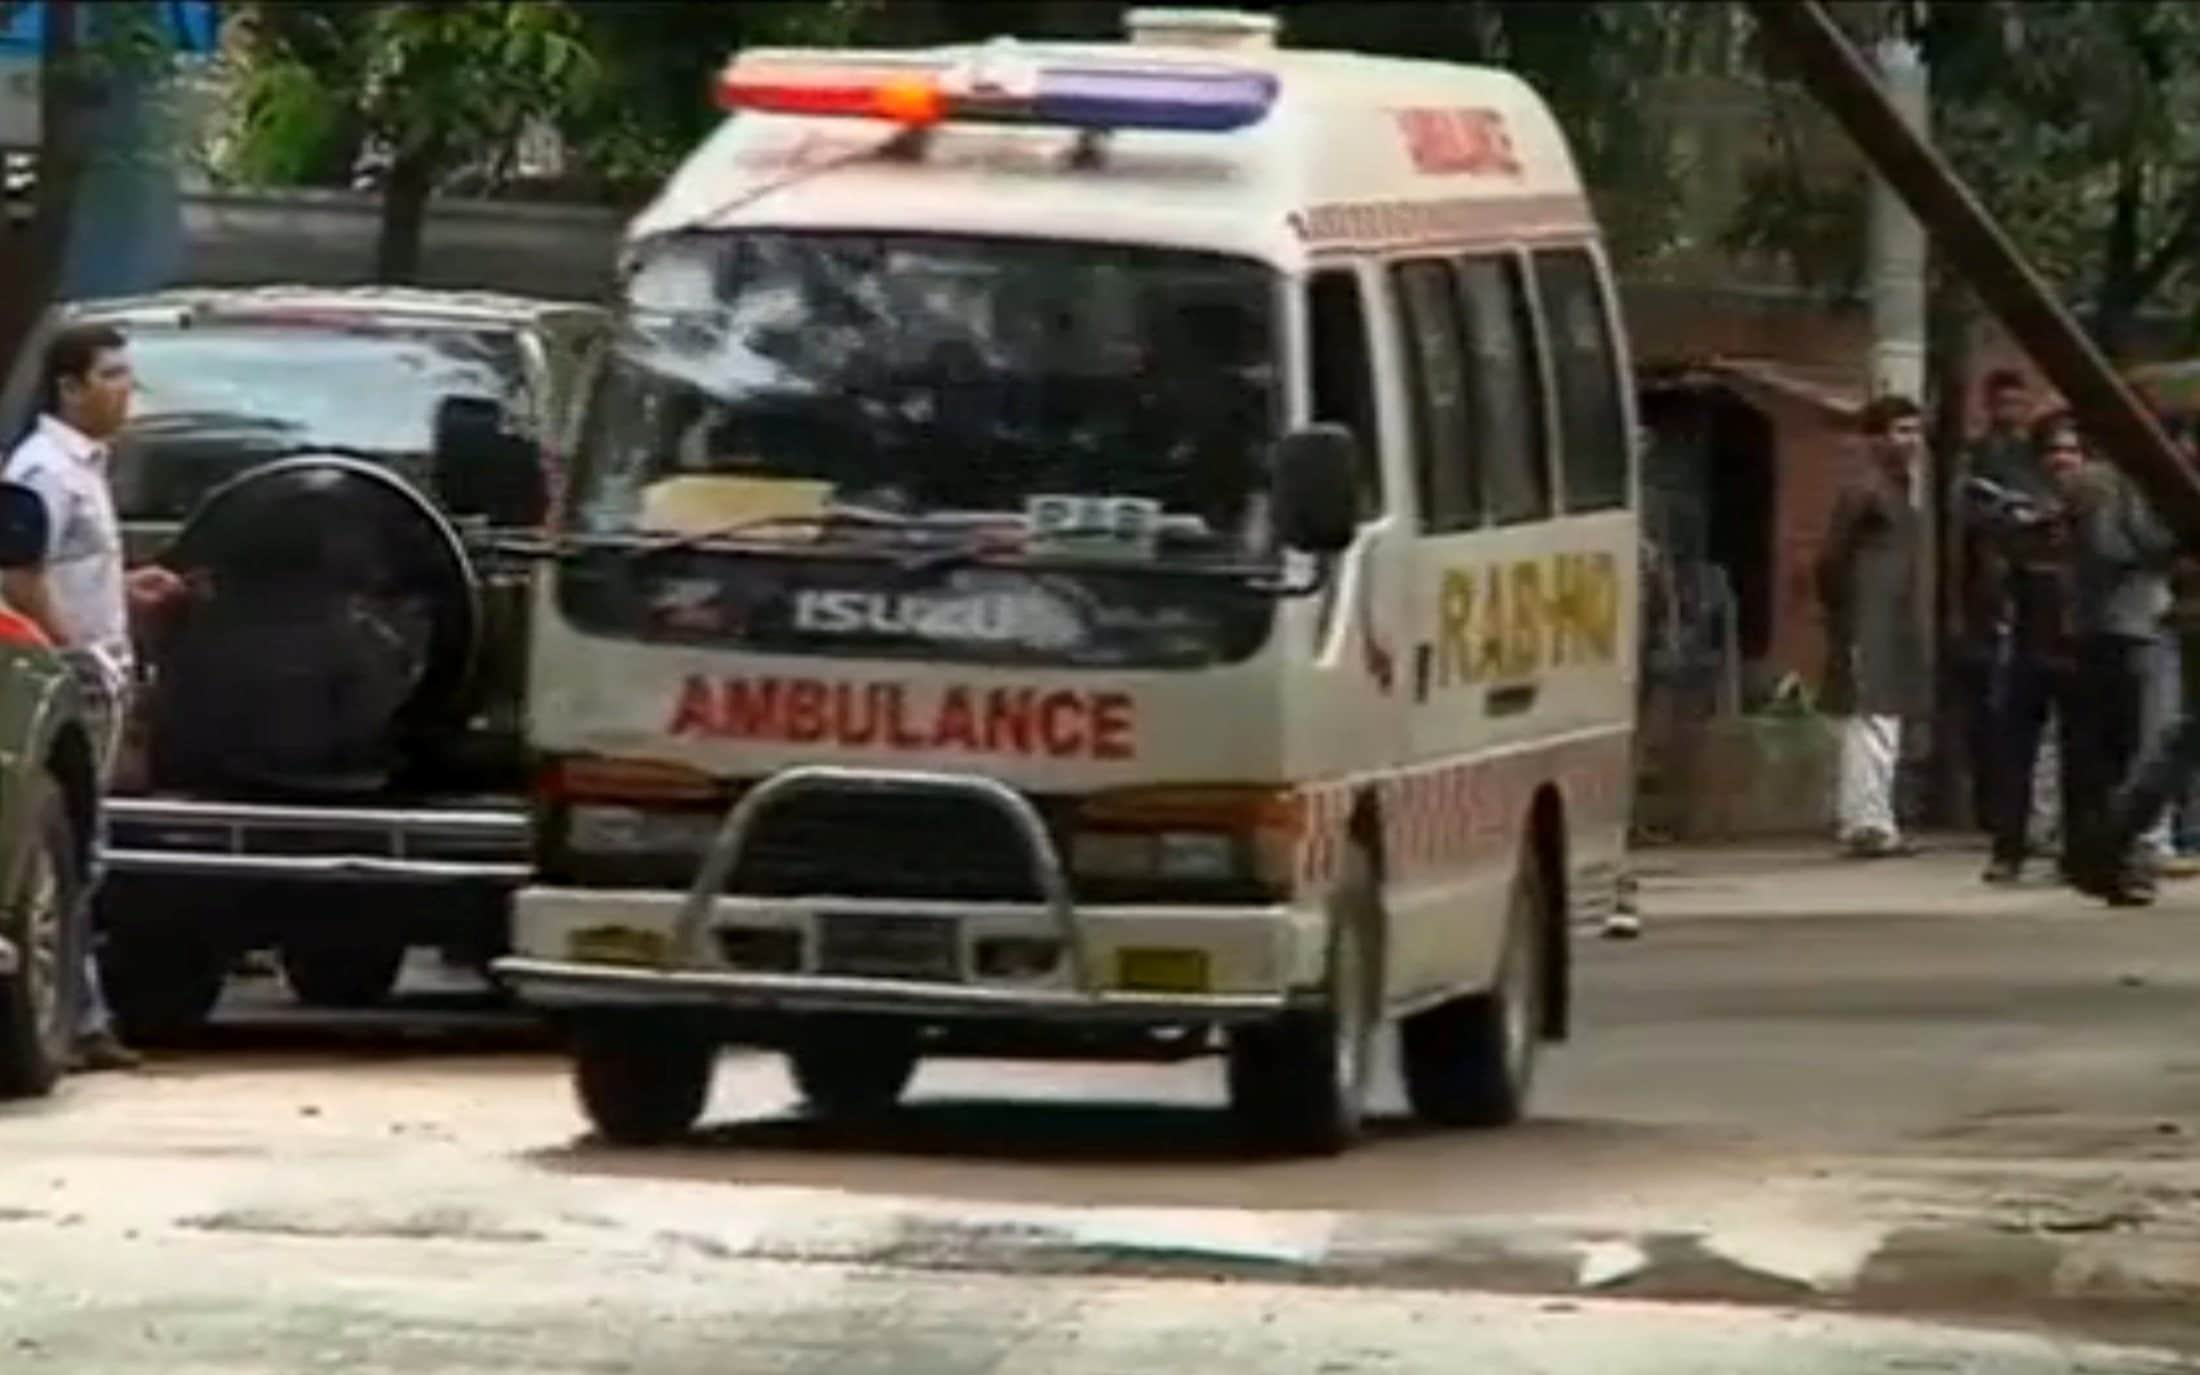ambulance: (481, 13, 1655, 1134)
suv: (2, 277, 581, 1055)
